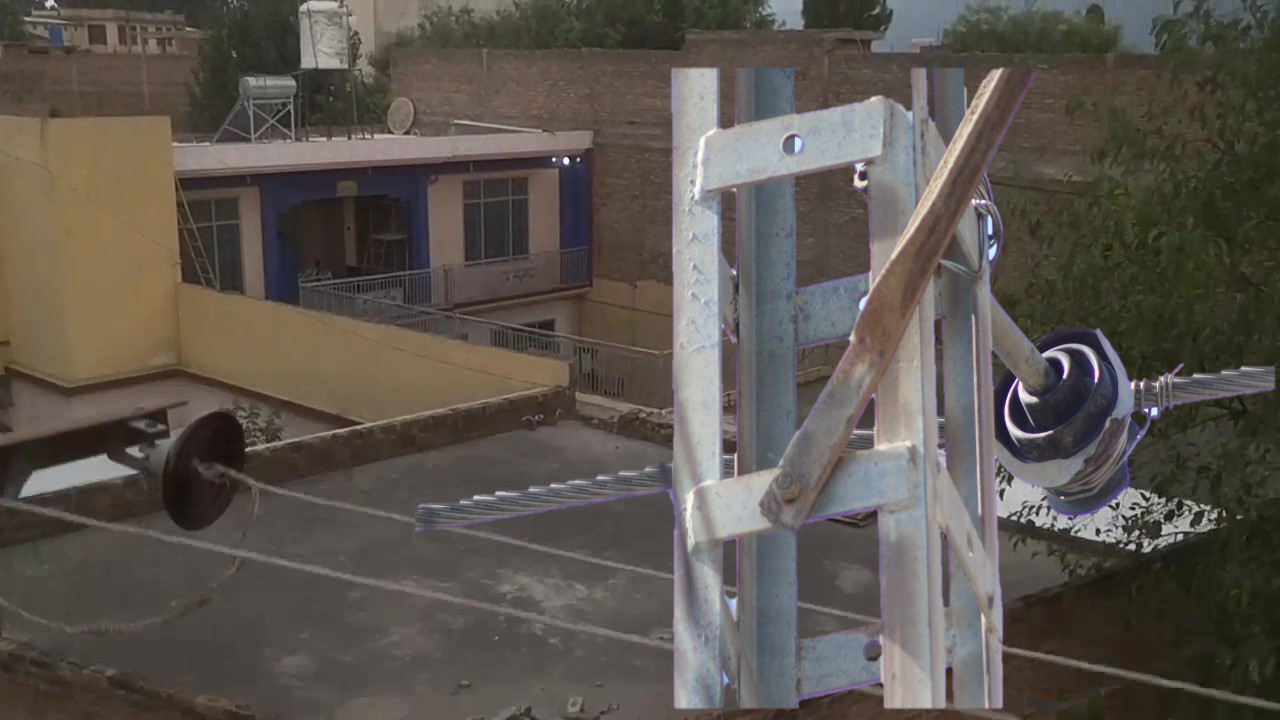defect_pin: (992, 316, 1153, 515)
insulator_disc: (145, 399, 254, 536)
